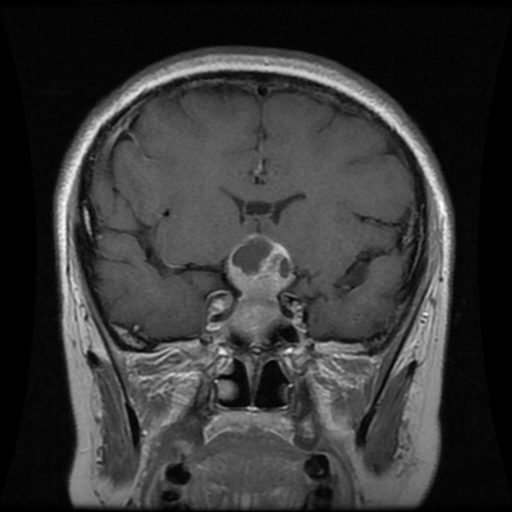pituitary: (227, 231, 293, 333)
